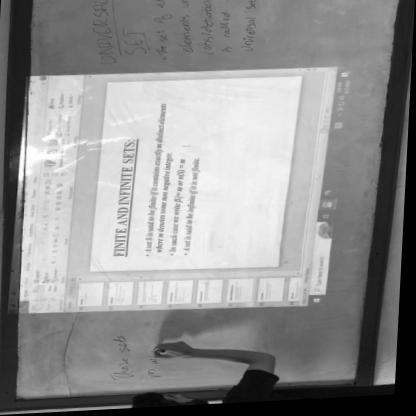Handwritten text: (78, 0, 115, 76), (96, 334, 144, 386), (143, 0, 177, 71), (236, 0, 270, 60), (210, 8, 235, 66), (174, 0, 195, 63), (114, 28, 147, 64)
